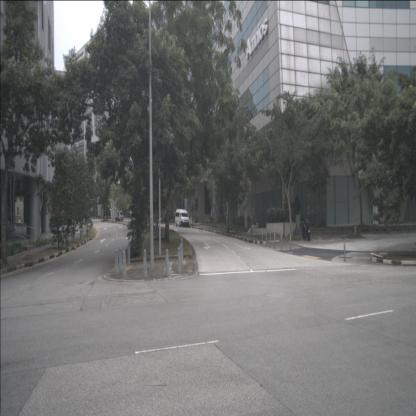vehicle-car: (175, 209, 190, 227)
vehicle-motorcycle: (300, 218, 311, 241)
vehicle-truck: (114, 206, 124, 222)
